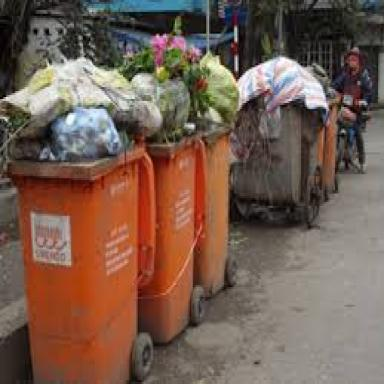plasticbag: (2, 58, 160, 172), (120, 23, 242, 140)
